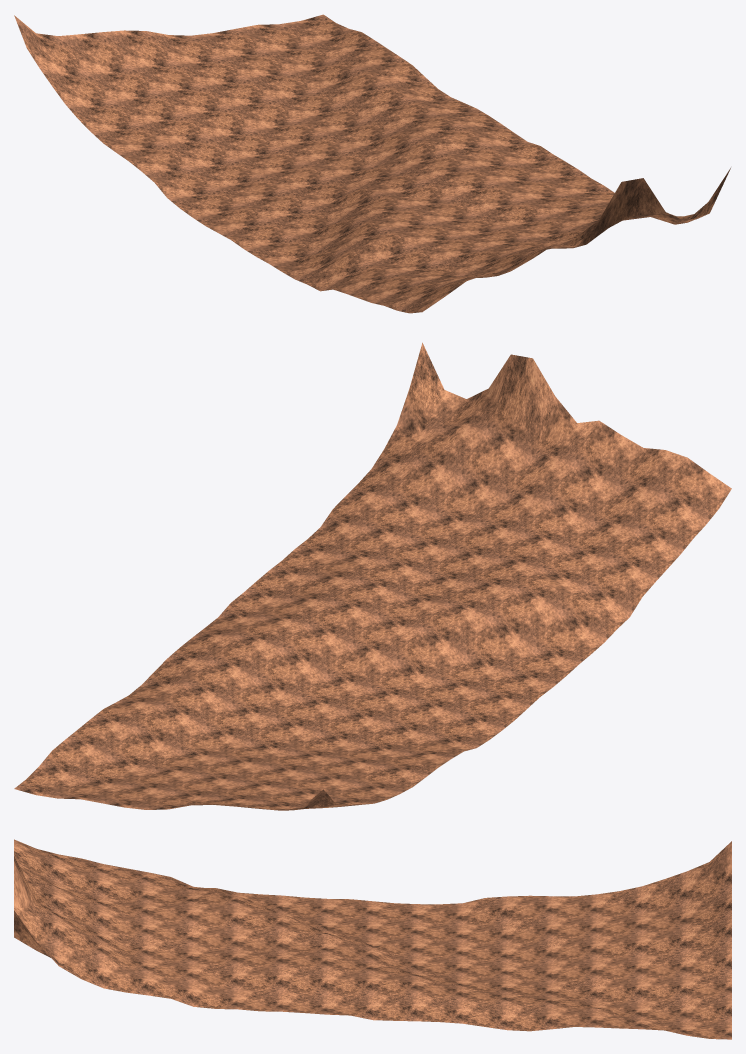
The model's file is terrain_01_23.dae.
3 renders of one model, top to bottom at view 1: azimuth 30°, elevation 25°; view 2: azimuth 150°, elevation 25°; view 3: azimuth 270°, elevation 25°, orthographic. The views are drawn at different scales.
Visible parts, largest first — view 1: terrain_01_23-node; view 2: terrain_01_23-node; view 3: terrain_01_23-node.
Boxes of the visible parts, bbox=[...] form: terrain_01_23-node: bbox=[14, 14, 730, 313]; terrain_01_23-node: bbox=[14, 342, 731, 810]; terrain_01_23-node: bbox=[14, 839, 731, 1039].
Bounding box in the file's own units: 56 × 128 × 27.56.
1 material, 1 textured.
